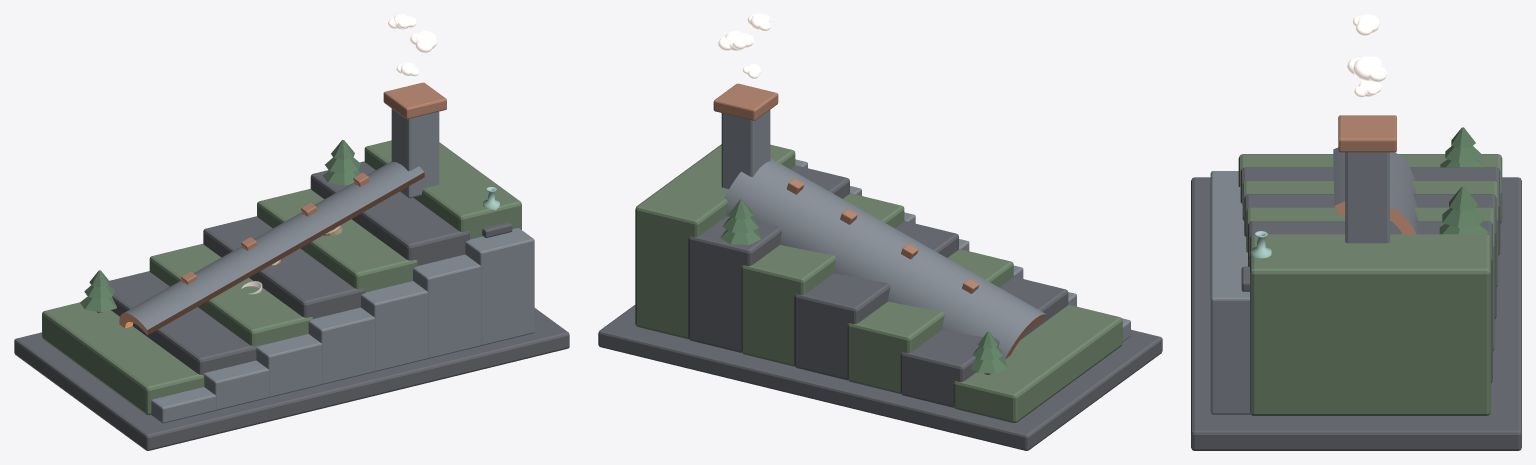
File: kiln_firing_diorama.glb
The picture shows the model from 3 angles, left to right: view 1: azimuth 30°, elevation 25°; view 2: azimuth 150°, elevation 25°; view 3: azimuth 270°, elevation 25°; orthographic projection. The views are drawn at different scales.
Visible parts, largest first — view 1: Base_StonePlinth, Kiln_VaultHalfCut, Hill_Terrace_0, Brick_RetainingStep_6, Hill_Terrace_3, Hill_Terrace_4, Hill_Terrace_2, Hill_Terrace_1, Hill_Terrace_6, Hill_Terrace_5, Brick_RetainingStep_5, Brick_RetainingStep_4 (+6 smaller); view 2: Kiln_VaultHalfCut, Base_StonePlinth, Hill_Terrace_6, Hill_Terrace_0, Hill_Terrace_4, Hill_Terrace_5, Hill_Terrace_3, Hill_Terrace_2, Hill_Terrace_1, Kiln_Chimney_Shaft, Kiln_Chimney_Cap, Kiln_SmokeCloud_2; view 3: Hill_Terrace_6, Base_StonePlinth, Brick_RetainingStep_6, Kiln_Chimney_Shaft, Hill_Terrace_1, Hill_Terrace_2, Kiln_VaultHalfCut, Hill_Terrace_3, Hill_Terrace_0, Hill_Terrace_5, Hill_Terrace_4, Kiln_Chimney_Cap (+15 smaller).
Part boxes in pixels (<box>): Base_StonePlinth: <box>14,308,569,450</box>; Kiln_VaultHalfCut: <box>119,161,424,335</box>; Hill_Terrace_0: <box>42,302,204,415</box>; Brick_RetainingStep_6: <box>465,228,534,345</box>; Hill_Terrace_3: <box>203,216,365,318</box>; Hill_Terrace_4: <box>257,189,417,292</box>; Hill_Terrace_2: <box>149,243,312,346</box>; Hill_Terrace_1: <box>109,271,259,374</box>; Hill_Terrace_6: <box>364,140,521,239</box>; Hill_Terrace_5: <box>310,161,469,265</box>; Brick_RetainingStep_5: <box>413,254,481,358</box>; Brick_RetainingStep_4: <box>361,281,428,371</box>; Kiln_VaultHalfCut: <box>724,158,1046,359</box>; Base_StonePlinth: <box>598,305,1162,450</box>; Hill_Terrace_6: <box>635,144,795,339</box>; Hill_Terrace_0: <box>953,304,1122,422</box>; Hill_Terrace_4: <box>741,193,904,366</box>; Hill_Terrace_5: <box>688,165,849,352</box>; Hill_Terrace_3: <box>794,221,958,380</box>; Hill_Terrace_2: <box>847,249,1013,393</box>; Hill_Terrace_1: <box>900,277,1068,407</box>; Kiln_Chimney_Shaft: <box>721,110,770,188</box>; Kiln_Chimney_Cap: <box>713,83,778,120</box>; Kiln_SmokeCloud_2: <box>718,31,753,51</box>; Hill_Terrace_6: <box>1250,234,1490,415</box>; Base_StonePlinth: <box>1191,177,1521,450</box>; Brick_RetainingStep_6: <box>1210,266,1250,414</box>; Kiln_Chimney_Shaft: <box>1345,152,1389,243</box>; Hill_Terrace_1: <box>1240,167,1500,255</box>; Hill_Terrace_2: <box>1242,180,1498,286</box>; Kiln_VaultHalfCut: <box>1333,147,1418,234</box>; Hill_Terrace_3: <box>1244,194,1496,318</box>; Hill_Terrace_0: <box>1238,154,1502,223</box>; Hill_Terrace_5: <box>1248,221,1492,382</box>; Hill_Terrace_4: <box>1246,207,1494,350</box>; Kiln_Chimney_Cap: <box>1338,115,1396,152</box>.
Bounding box in the file's own units: 2.16 × 1.49 × 1.18.
